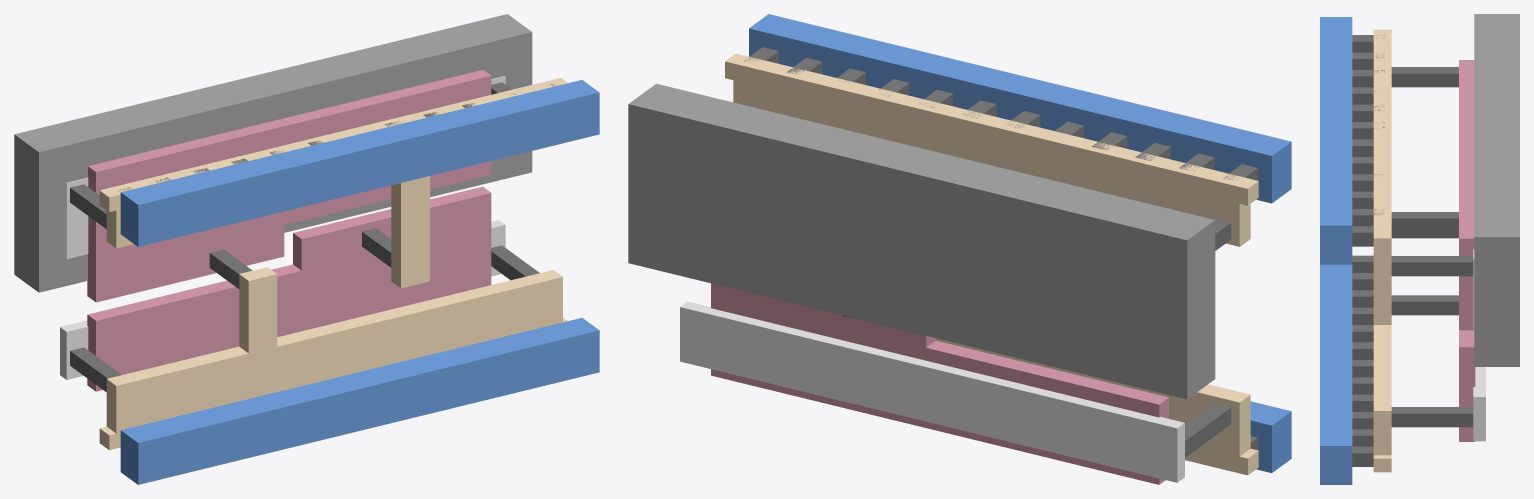
File: sky130_ef_sc_hd__decap_12.gds.gltf
3 renders of one model, left to right at view 1: azimuth 30°, elevation 25°; view 2: azimuth 150°, elevation 25°; view 3: azimuth 270°, elevation 25°, orthographic. The views are drawn at different scales.
Parts seen in each view (by area): view 1: sky130_ef_sc_hd__decap_12_met1, sky130_ef_sc_hd__decap_12_poly, sky130_ef_sc_hd__decap_12_li1, sky130_ef_sc_hd__decap_12_nwell, sky130_ef_sc_hd__decap_12_licon, sky130_ef_sc_hd__decap_12_diff; view 2: sky130_ef_sc_hd__decap_12_nwell, sky130_ef_sc_hd__decap_12_li1, sky130_ef_sc_hd__decap_12_diff, sky130_ef_sc_hd__decap_12_met1, sky130_ef_sc_hd__decap_12_poly, sky130_ef_sc_hd__decap_12_mcon, sky130_ef_sc_hd__decap_12_licon; view 3: sky130_ef_sc_hd__decap_12_nwell, sky130_ef_sc_hd__decap_12_met1, sky130_ef_sc_hd__decap_12_mcon, sky130_ef_sc_hd__decap_12_li1, sky130_ef_sc_hd__decap_12_licon, sky130_ef_sc_hd__decap_12_poly, sky130_ef_sc_hd__decap_12_diff.
Part boxes in pixels (x1,y1,x2,y2): sky130_ef_sc_hd__decap_12_met1: [120, 80, 599, 484]; sky130_ef_sc_hd__decap_12_poly: [87, 70, 491, 391]; sky130_ef_sc_hd__decap_12_li1: [99, 78, 567, 450]; sky130_ef_sc_hd__decap_12_nwell: [14, 14, 532, 292]; sky130_ef_sc_hd__decap_12_licon: [70, 82, 539, 392]; sky130_ef_sc_hd__decap_12_diff: [60, 76, 505, 379]; sky130_ef_sc_hd__decap_12_nwell: [628, 83, 1215, 399]; sky130_ef_sc_hd__decap_12_li1: [725, 53, 1258, 475]; sky130_ef_sc_hd__decap_12_diff: [680, 301, 1184, 482]; sky130_ef_sc_hd__decap_12_met1: [749, 14, 1291, 472]; sky130_ef_sc_hd__decap_12_poly: [711, 283, 1168, 484]; sky130_ef_sc_hd__decap_12_mcon: [744, 47, 1258, 450]; sky130_ef_sc_hd__decap_12_licon: [740, 103, 1231, 457]; sky130_ef_sc_hd__decap_12_nwell: [1474, 14, 1519, 366]; sky130_ef_sc_hd__decap_12_met1: [1320, 17, 1352, 484]; sky130_ef_sc_hd__decap_12_mcon: [1352, 35, 1384, 466]; sky130_ef_sc_hd__decap_12_li1: [1373, 29, 1391, 472]; sky130_ef_sc_hd__decap_12_licon: [1391, 67, 1473, 427]; sky130_ef_sc_hd__decap_12_poly: [1459, 60, 1475, 441]; sky130_ef_sc_hd__decap_12_diff: [1473, 249, 1485, 441].
Size of the model in its own units: 5.9 by 3.2 by 2.24.
